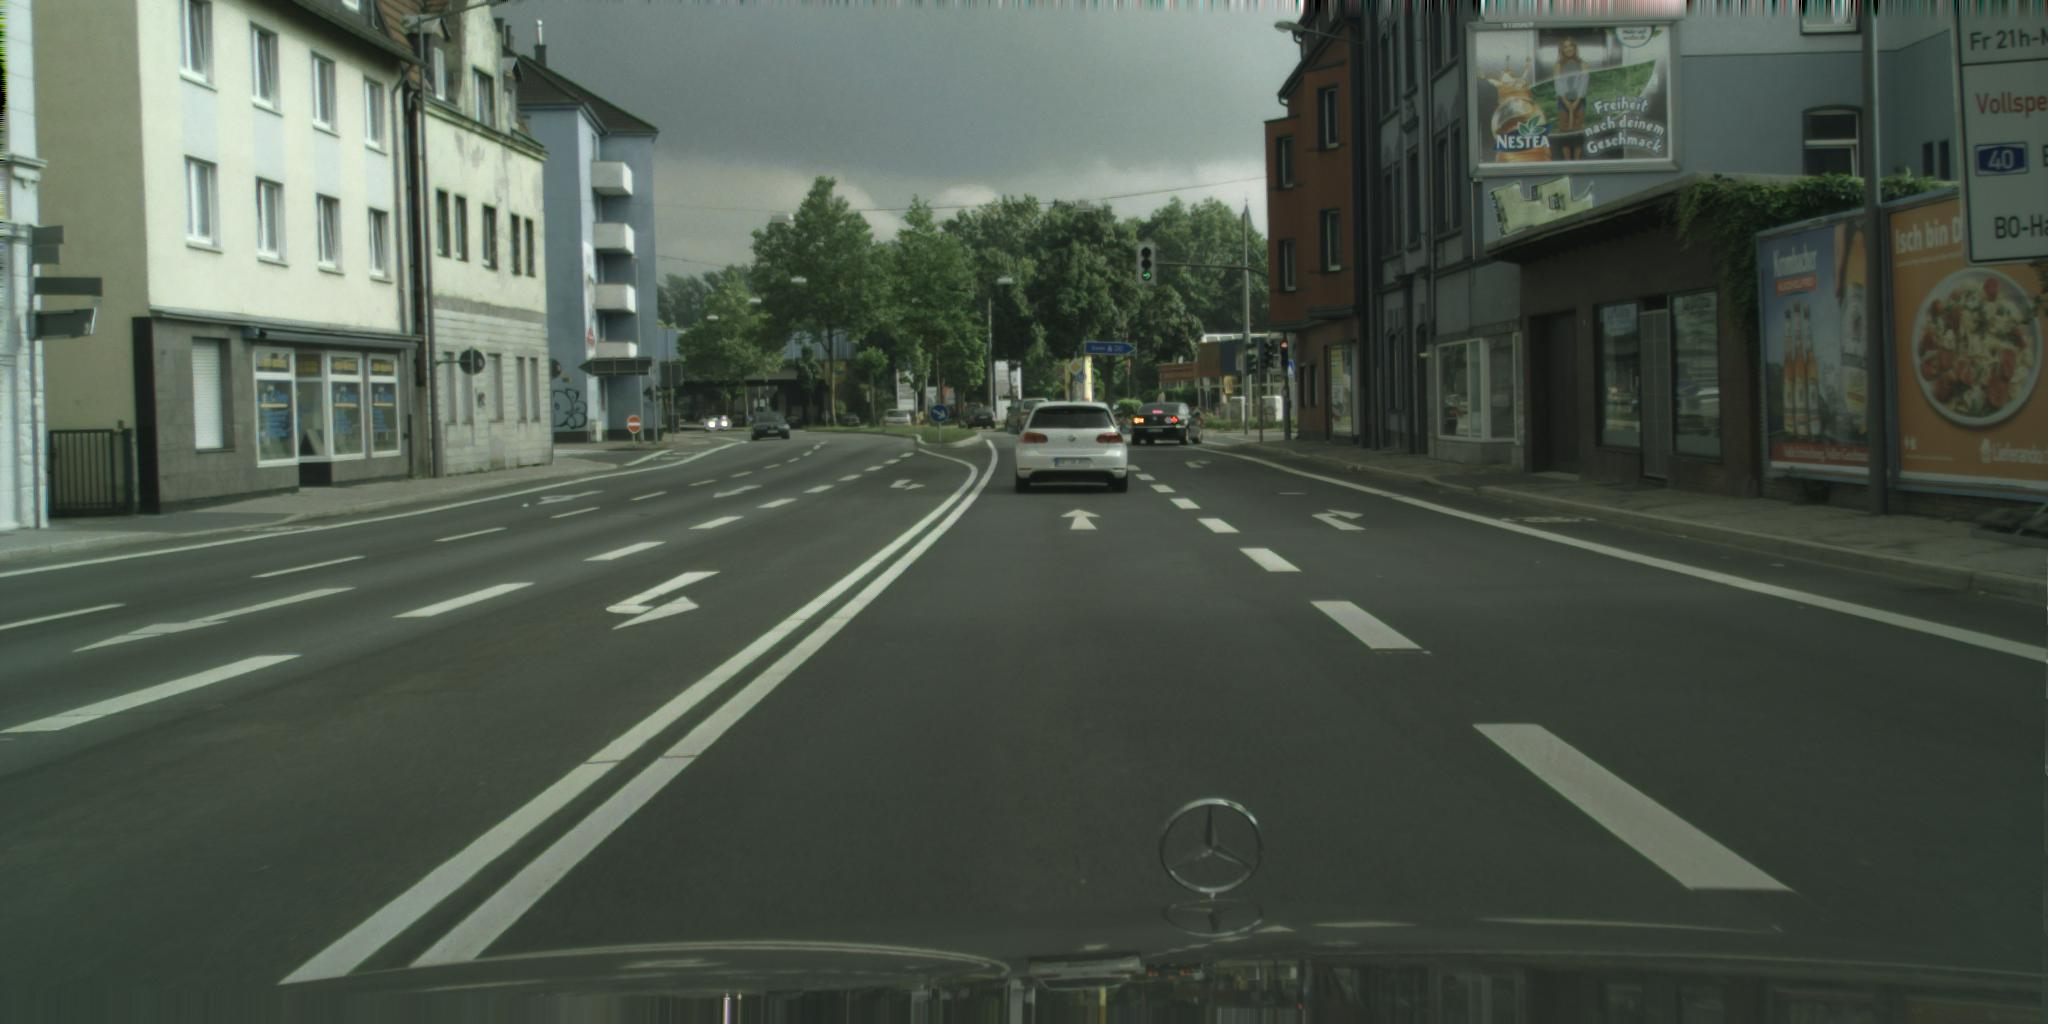car: (1016, 401, 1132, 494), (1132, 402, 1202, 445), (1006, 398, 1051, 436), (752, 411, 793, 441), (959, 404, 997, 428), (878, 410, 914, 428), (704, 415, 733, 432), (840, 413, 862, 428), (780, 415, 805, 428), (728, 415, 747, 428)
